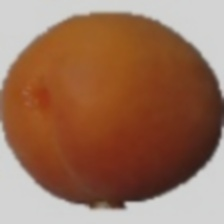apricot: (23, 13, 188, 187)
